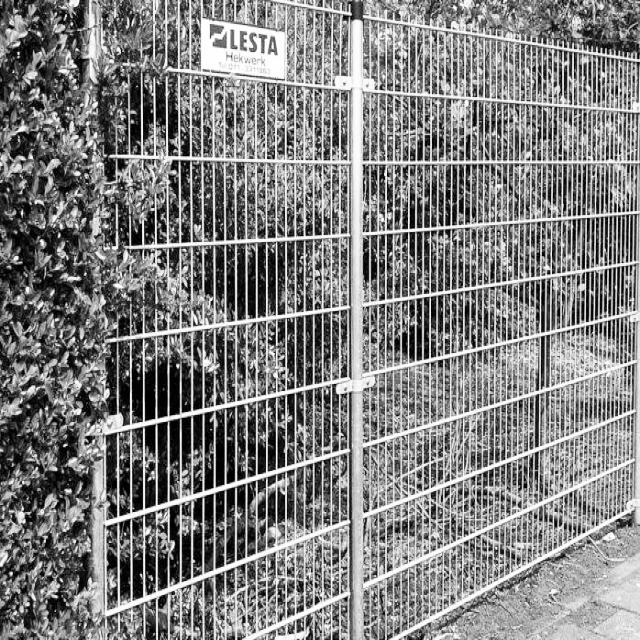fences: (117, 11, 640, 624)
